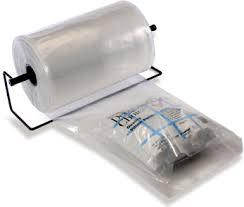Zip plastic bag: (8, 9, 244, 207)
